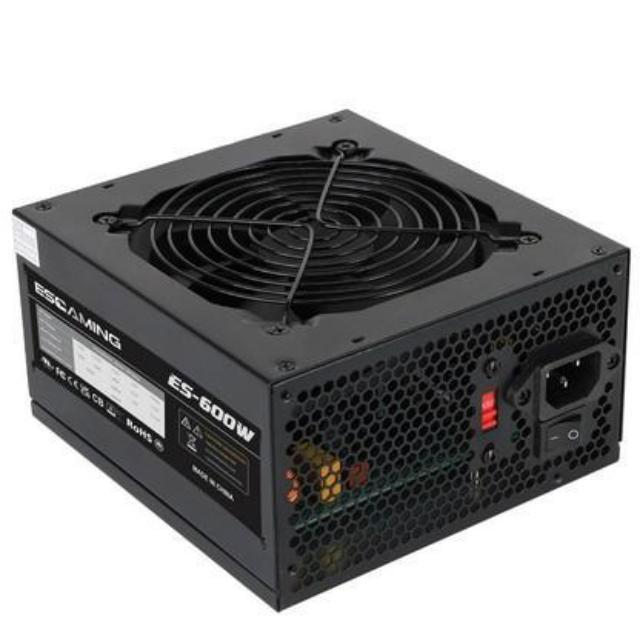PSU: (0, 96, 640, 602)
